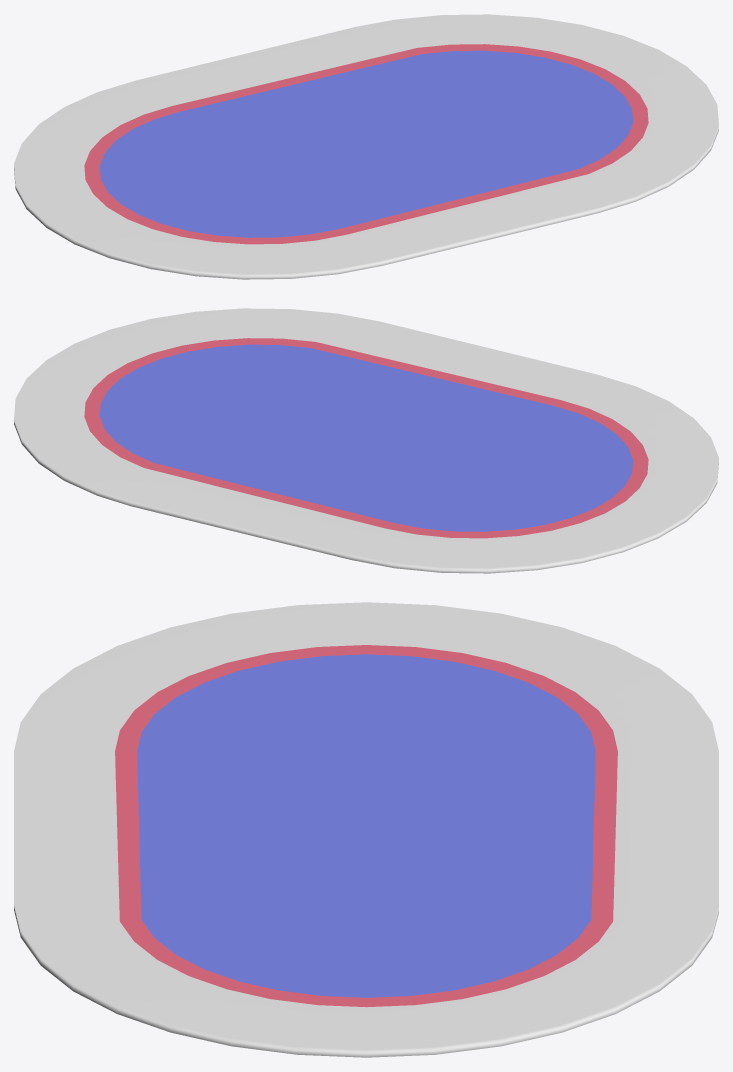
File: rug_big.fbx
The picture shows the model from 3 angles, top to bottom: view 1: azimuth 30°, elevation 25°; view 2: azimuth 150°, elevation 25°; view 3: azimuth 270°, elevation 25°; orthographic projection. The views are drawn at different scales.
Visible parts, largest first — view 1: rug_big; view 2: rug_big; view 3: rug_big.
Boxes of the visible parts, x1,y1,x2,y2 form: rug_big: (14,14,718,279); rug_big: (14,308,718,573); rug_big: (14,602,718,1057).
Size of the model in its own units: 626 by 5.1 by 417.
